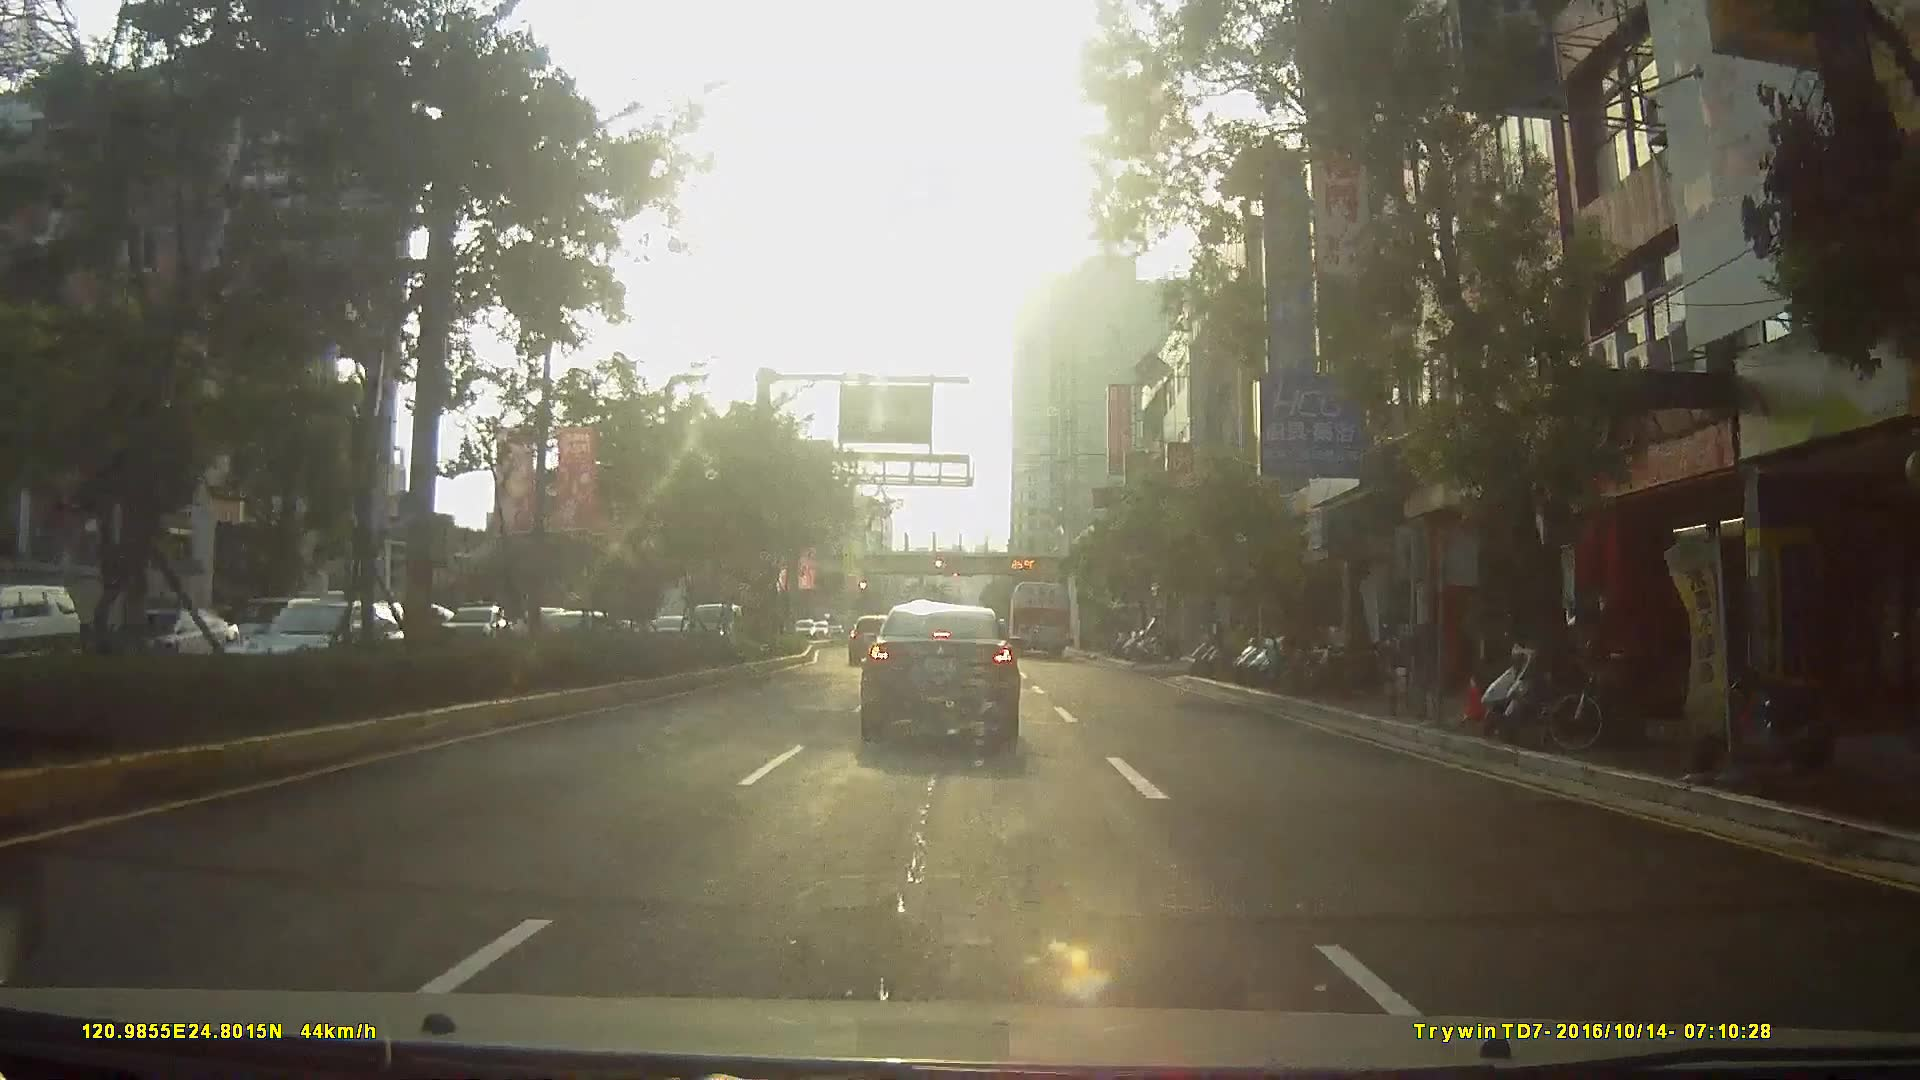vehicle: (858, 604, 1021, 744), (98, 607, 245, 676), (219, 596, 322, 663), (1, 582, 74, 674), (1006, 578, 1072, 657), (318, 600, 404, 659), (436, 603, 508, 646), (847, 611, 895, 662)
